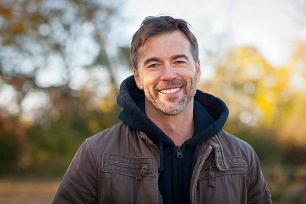male: (133, 28, 203, 120)
